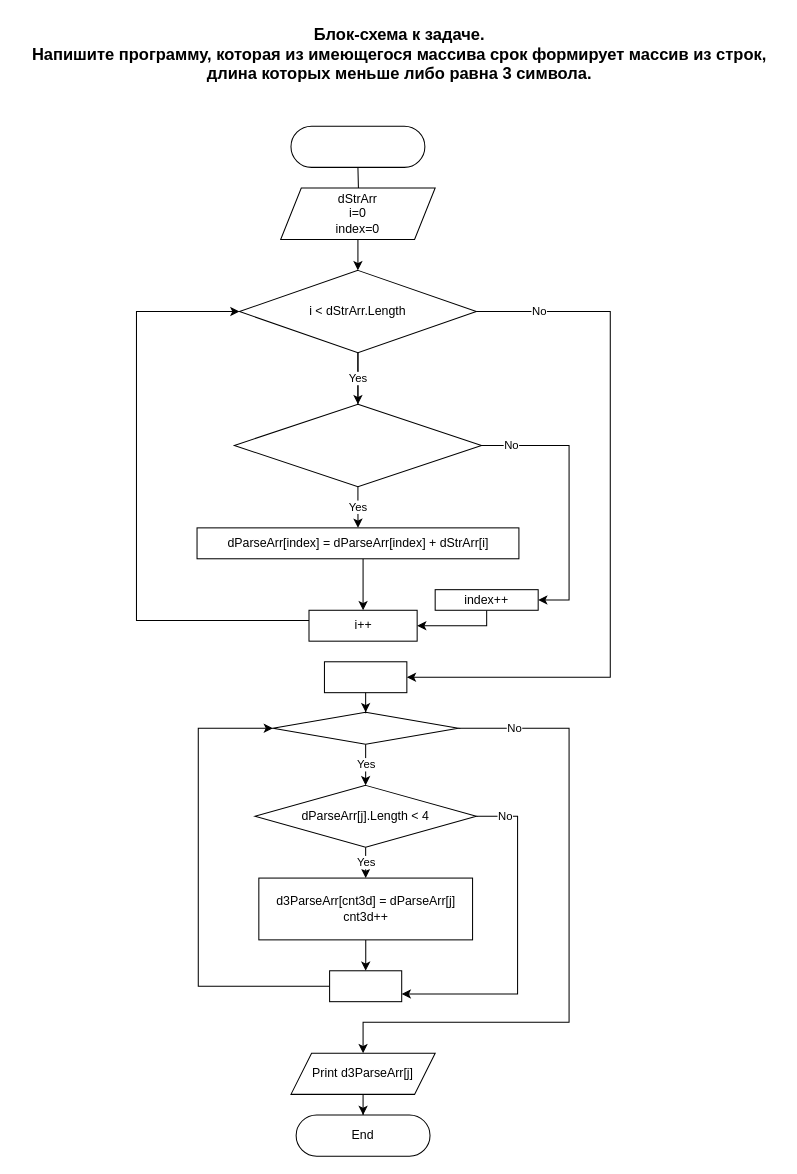
The diagram is 797 pixels wide and 1174 high, and some of its shapes have lost their labels. The shapes that lost their labels are listed below. From the top down, each one's centre as x and y in pixels, then its label:
(x=357, y=146): Begin
(x=357, y=445): dStrArr[i] != ','
(x=365, y=677): j = 0 cnt3d = 0
(x=365, y=727): j <= index
(x=365, y=986): j++
